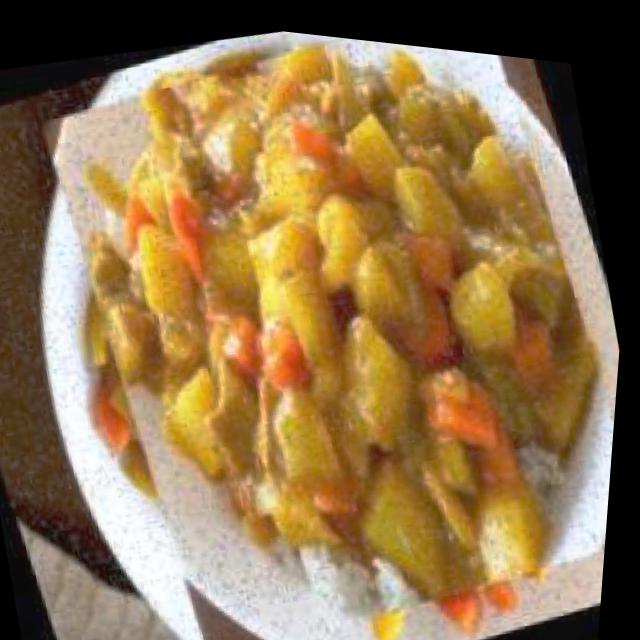curry: (0, 4, 640, 640)
